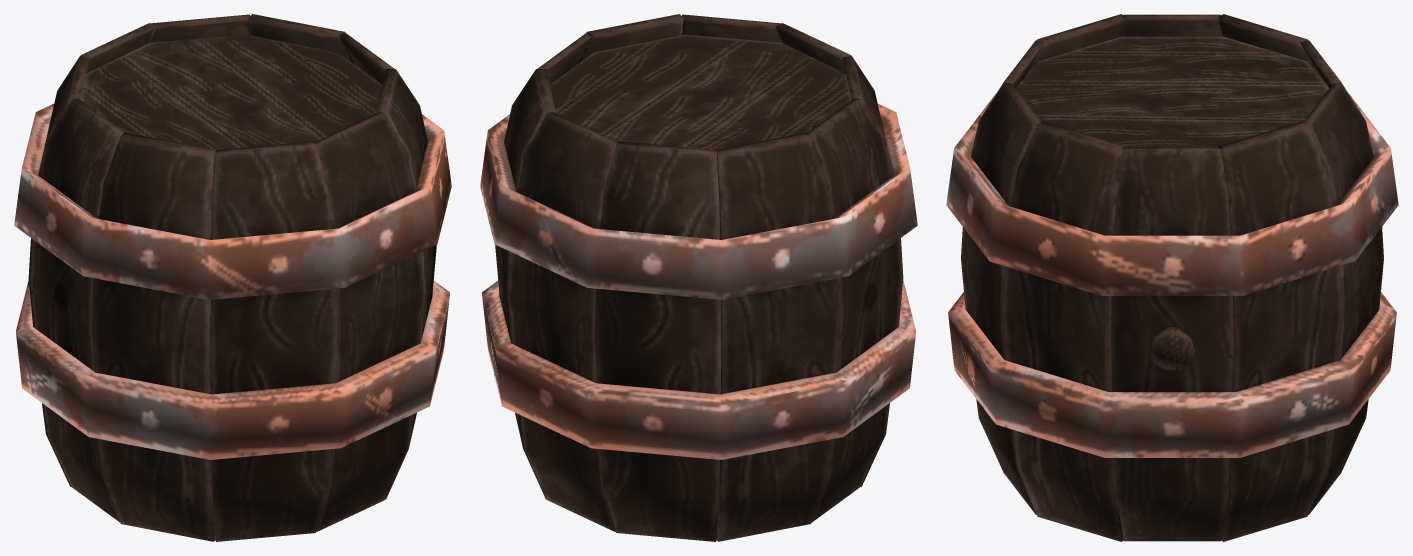
File: P_Barrel_1.gltf
3 views of the same model, side by side, from view 1: azimuth 30°, elevation 25°; view 2: azimuth 150°, elevation 25°; view 3: azimuth 270°, elevation 25° (orthographic).
Parts seen in each view (by area): view 1: P_Barrel_1; view 2: P_Barrel_1; view 3: P_Barrel_1.
Boxes of the visible parts, x1,y1,x2,y2 form: P_Barrel_1: (14, 14, 451, 541); P_Barrel_1: (480, 14, 917, 541); P_Barrel_1: (946, 14, 1398, 541).
Bounding box in the file's own units: 0.9664 × 0.9428 × 0.9853.
Materials: 1 (1 with a texture image).
